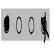correct: (4, 12, 10, 35)
not correct: (40, 10, 49, 46)
